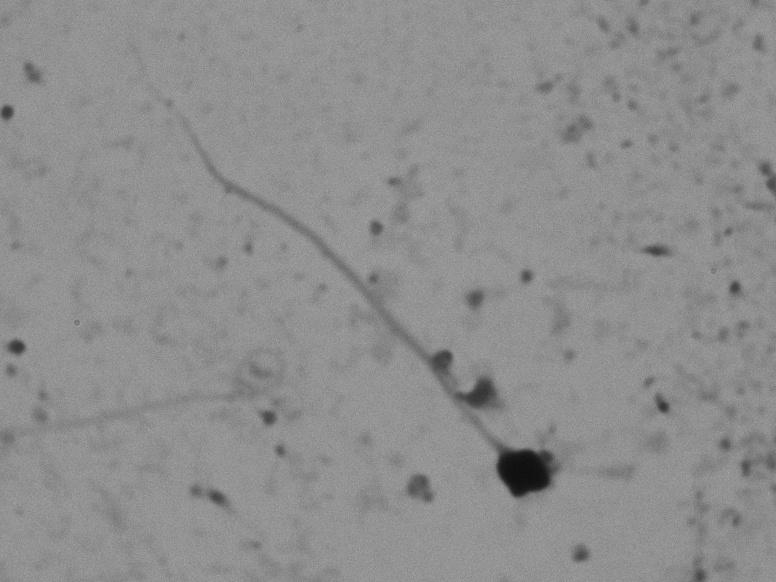Abnormal: (96, 27, 569, 520)
